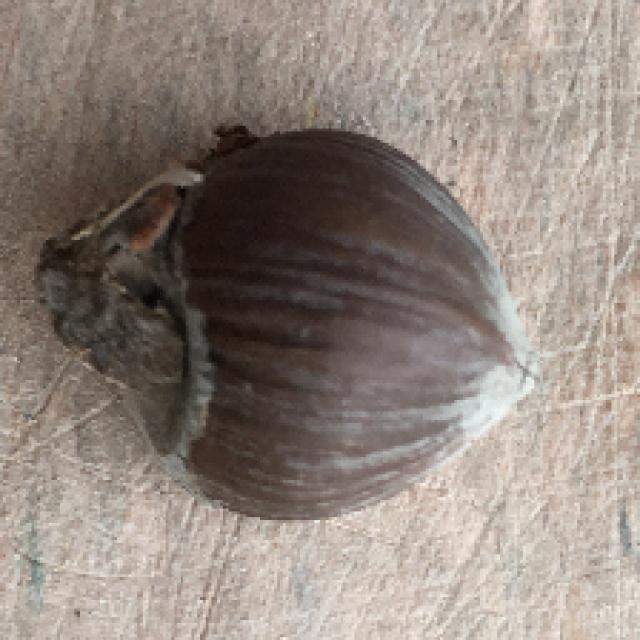damagedHazelnut: (28, 126, 546, 529)
